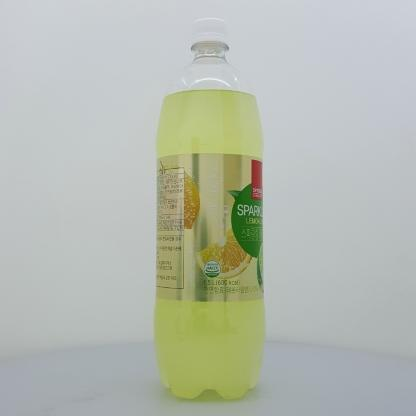----------------: (154, 17, 266, 399)
